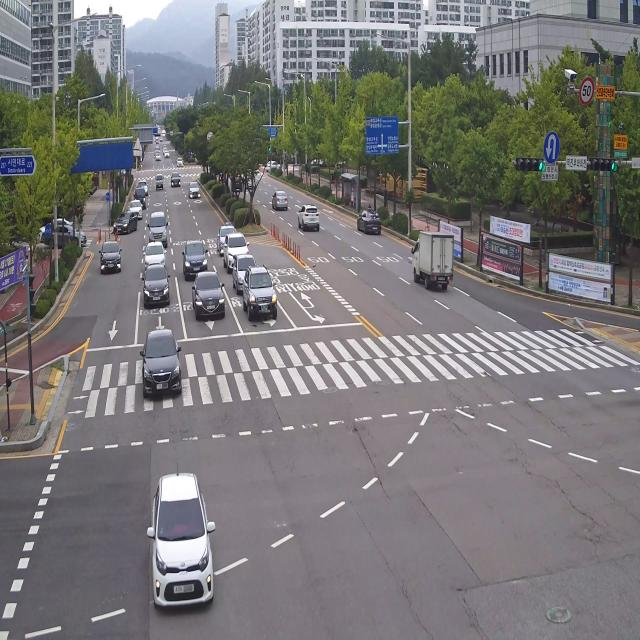Car: (141, 469, 224, 626), (138, 330, 183, 405), (232, 259, 280, 327), (188, 271, 225, 324), (140, 265, 172, 319), (181, 236, 210, 281), (349, 205, 385, 241), (292, 204, 324, 244), (34, 212, 79, 239), (223, 232, 252, 272), (231, 252, 258, 294), (138, 241, 168, 275), (44, 224, 82, 250), (147, 209, 171, 246), (100, 235, 120, 276), (215, 222, 238, 254), (115, 204, 136, 238), (272, 188, 292, 218), (187, 177, 201, 206), (128, 198, 143, 224), (229, 169, 244, 193), (169, 170, 184, 193), (245, 168, 257, 192), (267, 158, 282, 177), (137, 178, 150, 194), (177, 154, 184, 171), (154, 152, 162, 161), (164, 150, 170, 162)
Truck: (402, 229, 456, 295), (133, 187, 147, 209), (154, 170, 165, 190)
